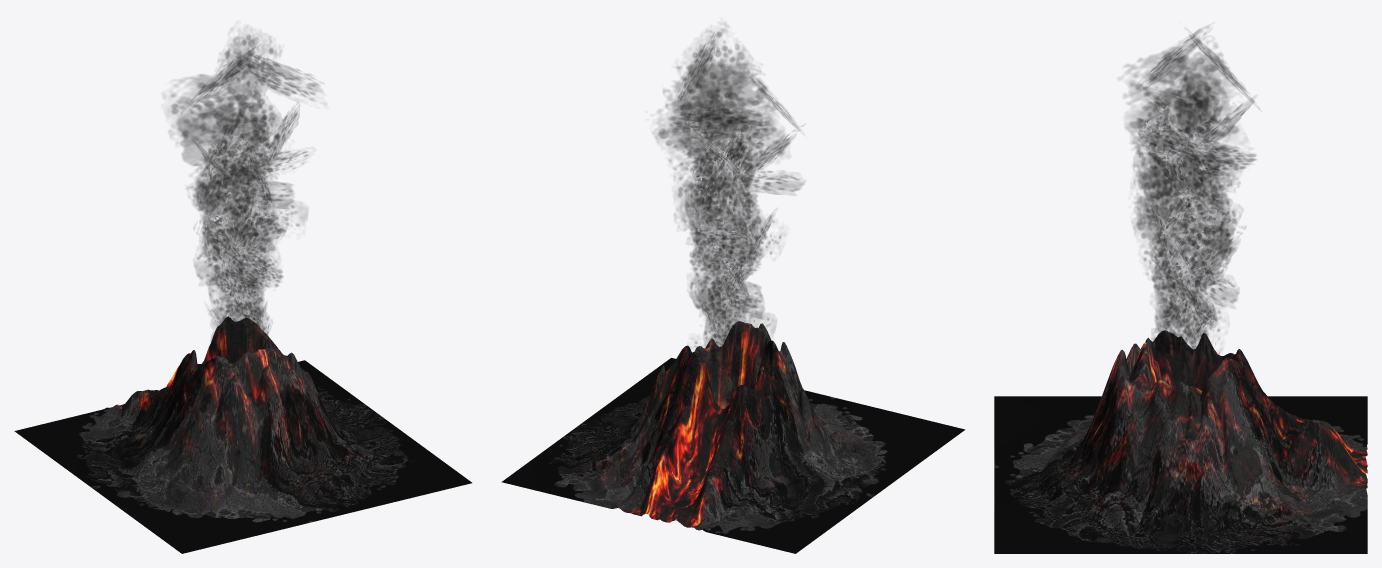
Rendered from Muspelheim_Ash_Volcano.glb.
3 renders of one model, left to right at view 1: azimuth 30°, elevation 25°; view 2: azimuth 150°, elevation 25°; view 3: azimuth 270°, elevation 25°, orthographic. The views are drawn at different scales.
Parts seen in each view (by area): view 1: Object_2, Object_3; view 2: Object_2, Object_3; view 3: Object_2, Object_3.
Part boxes in pixels (x1=…): Object_2: x1=14, y1=316, x2=471, y2=553; Object_3: x1=168, y1=34, x2=319, y2=362; Object_2: x1=501, y1=321, x2=965, y2=553; Object_3: x1=653, y1=23, x2=804, y2=408; Object_2: x1=994, y1=330, x2=1367, y2=553; Object_3: x1=1124, y1=26, x2=1259, y2=395.
Bounding box in the file's own units: 2.24 × 3.08 × 2.24.
2 materials, 2 textured.
